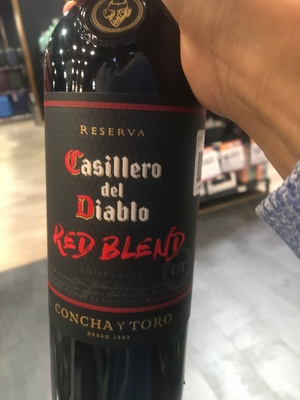casillero del diablo red blend: (40, 34, 211, 400)
